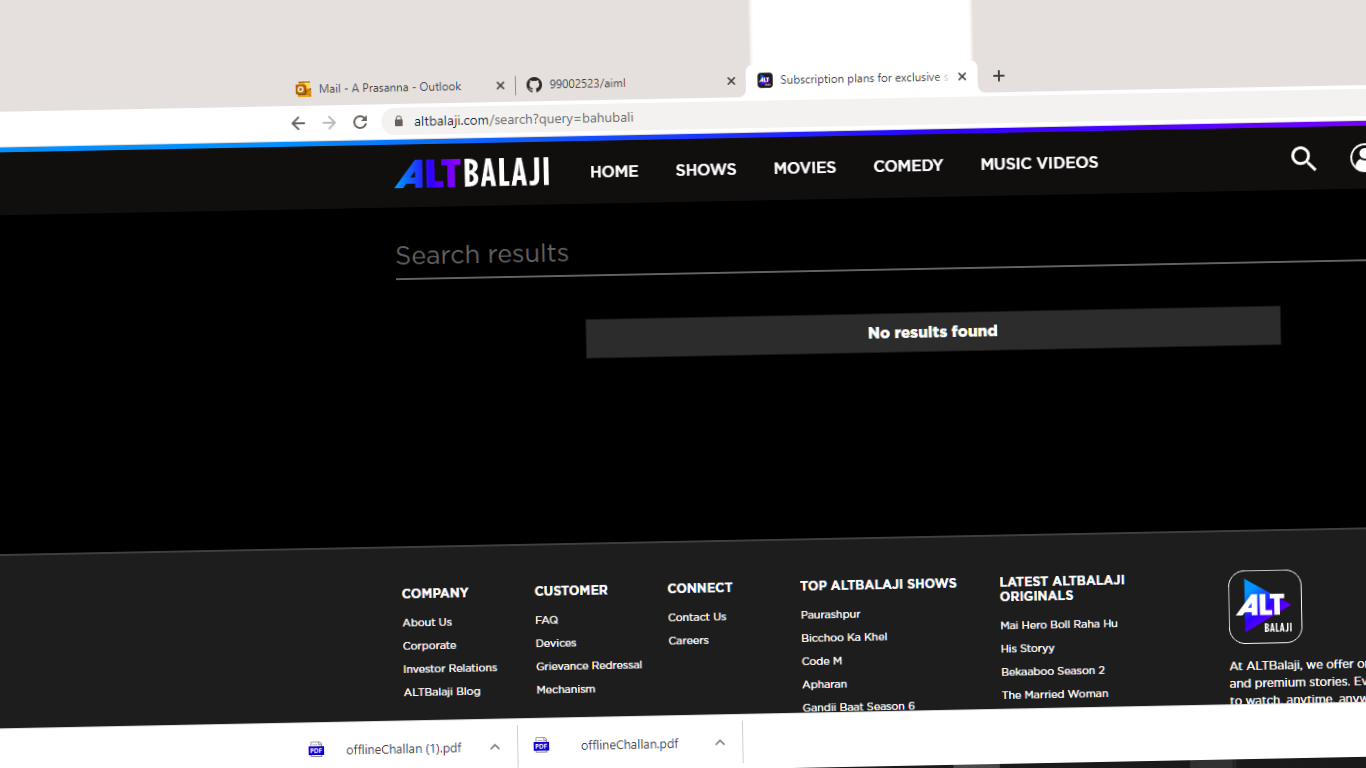noresultsfound: (574, 294, 1282, 371)
profileicon: (1344, 135, 1366, 174)
searchicon: (1270, 135, 1327, 182)
searchtextbox: (379, 223, 1341, 296)
